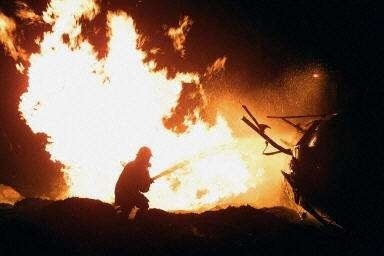fire: (17, 0, 238, 202)
